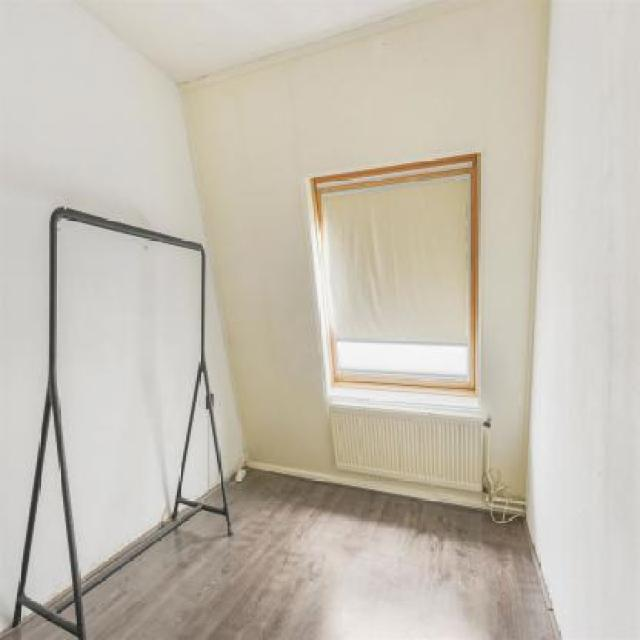floor: (86, 469, 569, 640), (0, 615, 83, 638)
